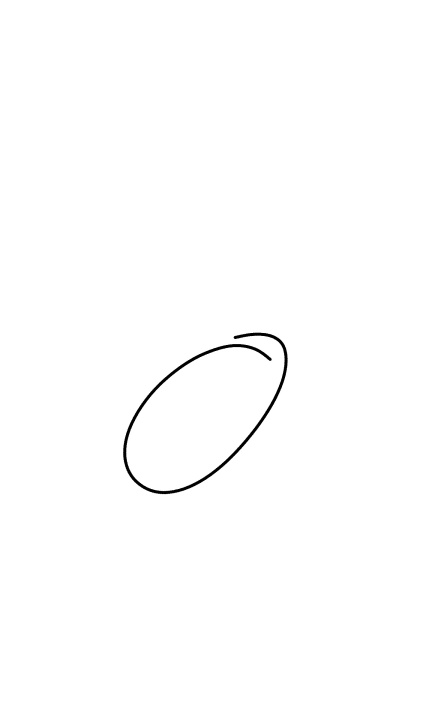Circle: (119, 328, 291, 497)
